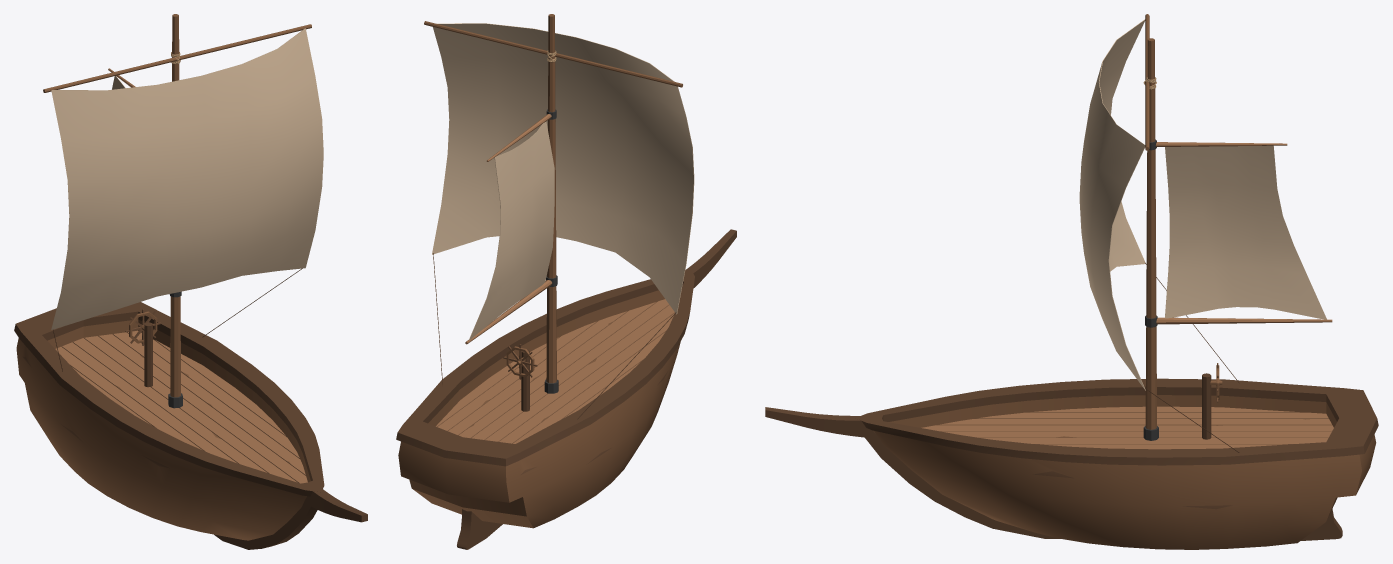
Rendered from Ship_01.fbx.
3 renders of one model, left to right at view 1: azimuth 30°, elevation 25°; view 2: azimuth 150°, elevation 25°; view 3: azimuth 270°, elevation 25°, orthographic. The views are drawn at different scales.
Visible parts, largest first — view 1: Ship_01_1_LOD0, Ship_01_3_LOD0; view 2: Ship_01_1_LOD0, Ship_01_2_LOD0, Ship_01_3_LOD0; view 3: Ship_01_1_LOD0, Ship_01_2_LOD0.
Boxes of the visible parts, x1,y1,x2,y2 form: Ship_01_1_LOD0: [14, 14, 367, 549]; Ship_01_3_LOD0: [125, 309, 160, 345]; Ship_01_1_LOD0: [396, 14, 736, 549]; Ship_01_2_LOD0: [465, 109, 557, 344]; Ship_01_3_LOD0: [503, 344, 537, 379]; Ship_01_1_LOD0: [765, 14, 1378, 549]; Ship_01_2_LOD0: [1145, 139, 1332, 327].
Size of what is drawn, in the model's own units: 5.79 by 10.12 by 11.28.
